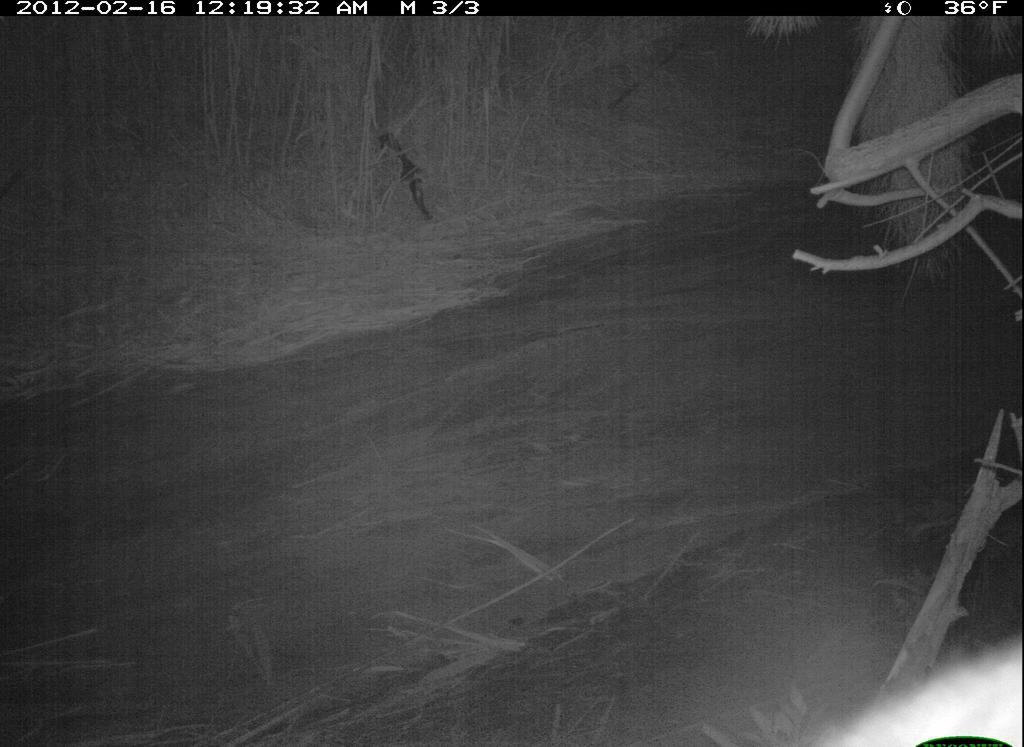raccoon: (783, 641, 1023, 747)
